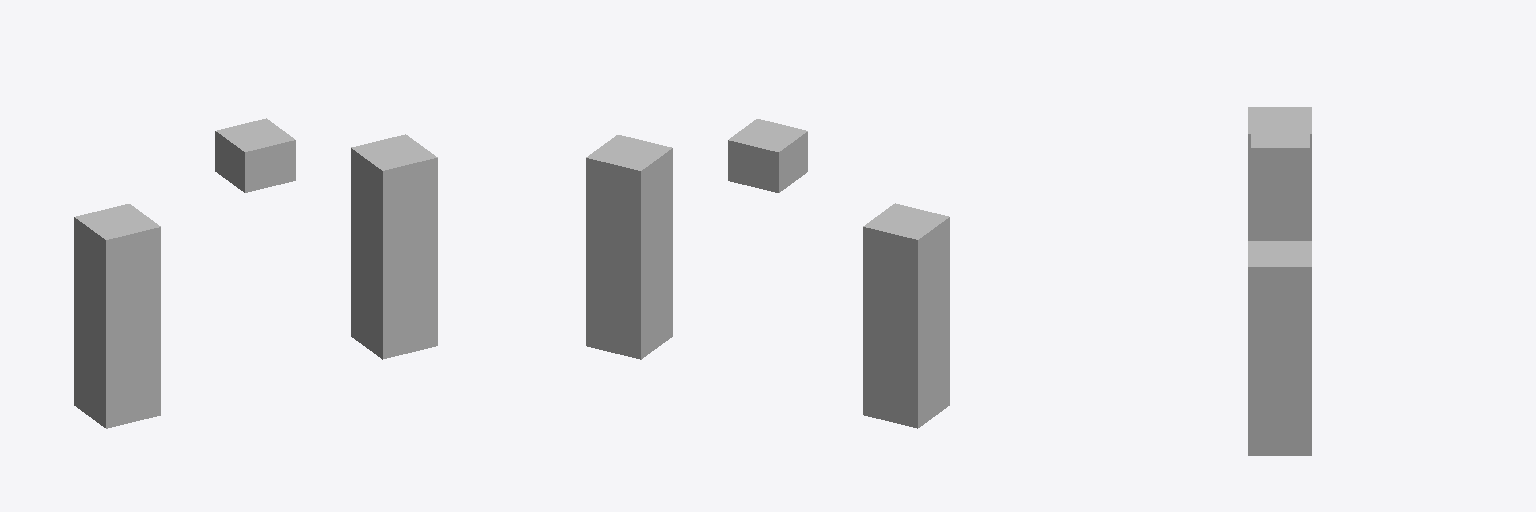
The model's file is hands.obj.
3 views of the same model, side by side, from view 1: azimuth 30°, elevation 25°; view 2: azimuth 150°, elevation 25°; view 3: azimuth 270°, elevation 25° (orthographic).
Parts seen in each view (by area): view 1: hands_Cube.004; view 2: hands_Cube.004; view 3: hands_Cube.004.
Part boxes in pixels (x1,y1,x2,y2): hands_Cube.004: (74,118,437,428); hands_Cube.004: (586,119,949,428); hands_Cube.004: (1248,107,1311,455).
Size of the model in its own units: 2.47 by 1.72 by 0.4146.